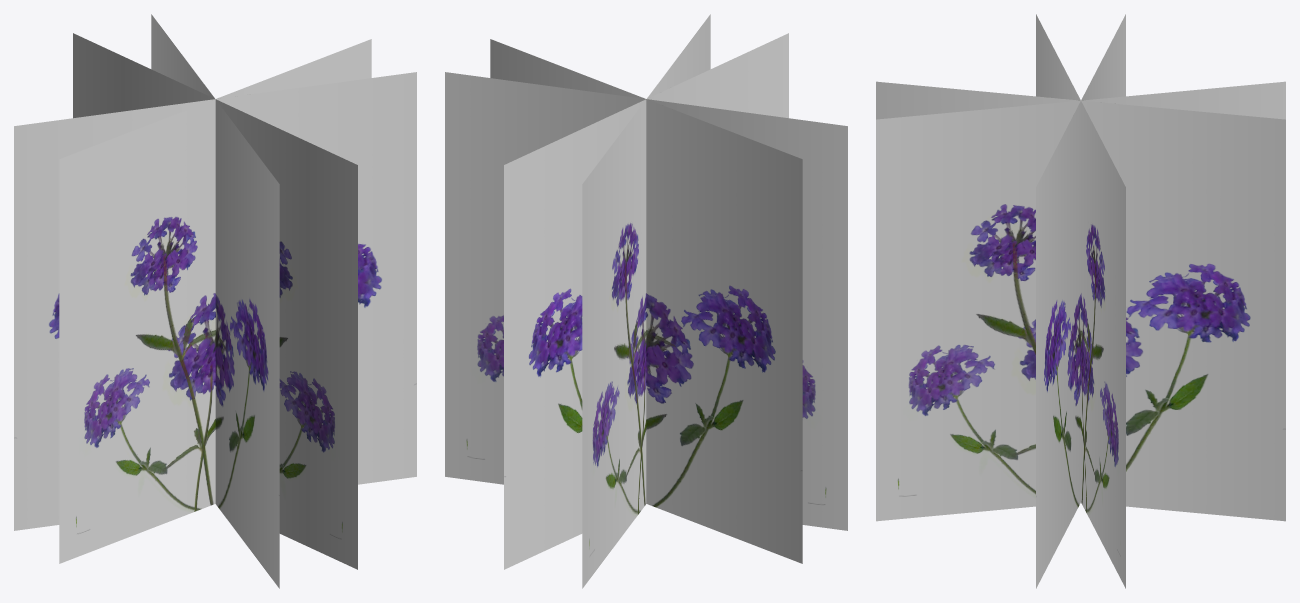
Rendered from TerrainGrass02 Variant.fbx.
The picture shows the model from 3 angles, left to right: view 1: azimuth 30°, elevation 25°; view 2: azimuth 150°, elevation 25°; view 3: azimuth 270°, elevation 25°; orthographic projection.
Parts seen in each view (by area): view 1: TerrainGrass02_Variant; view 2: TerrainGrass02_Variant; view 3: TerrainGrass02_Variant.
Part boxes in pixels (bbox=[...]): TerrainGrass02_Variant: bbox=[14, 14, 416, 588]; TerrainGrass02_Variant: bbox=[445, 14, 847, 588]; TerrainGrass02_Variant: bbox=[876, 14, 1285, 588].
Size of the model in its own units: 99.98 by 108 by 99.98.
